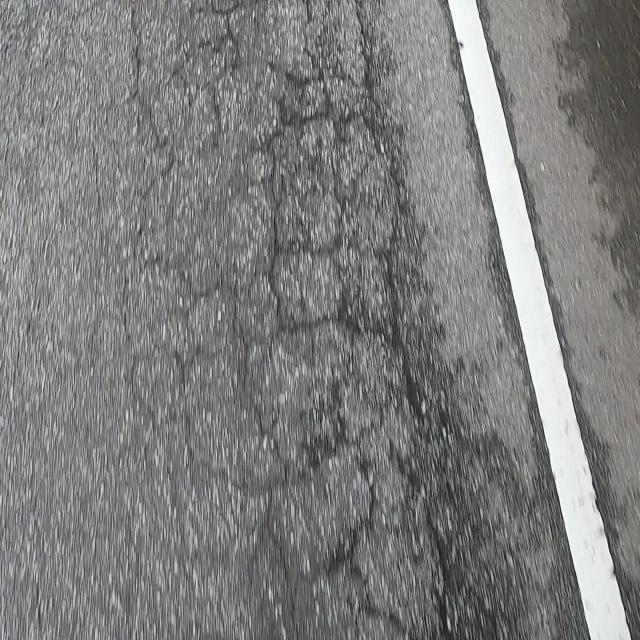Retak-Buaya: (114, 0, 453, 640)
